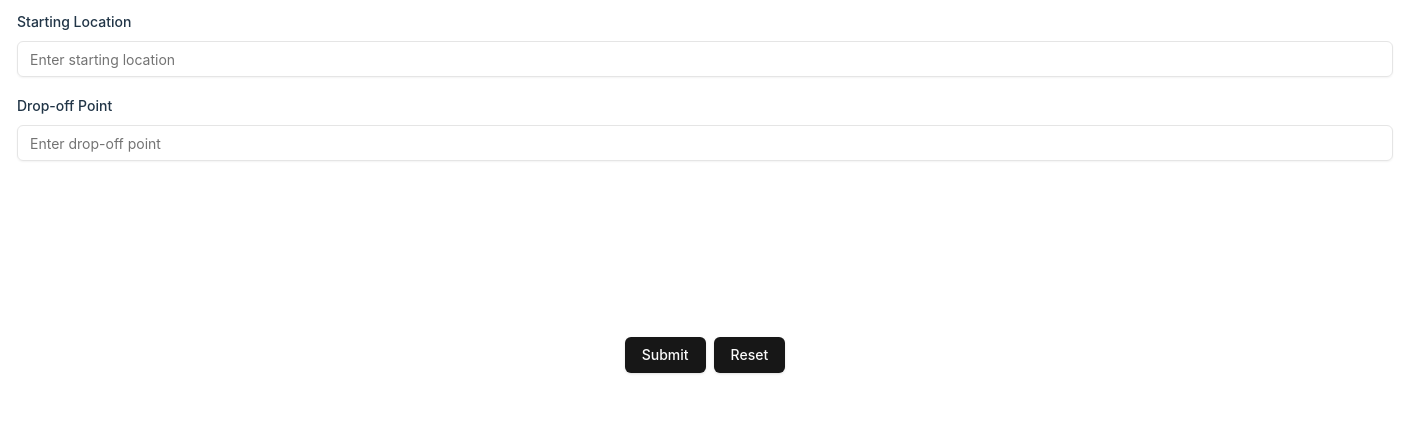
Test: InputForm › shows validation errors for empty fields
Click the button "Submit": (665, 355) [625,337,706,373]
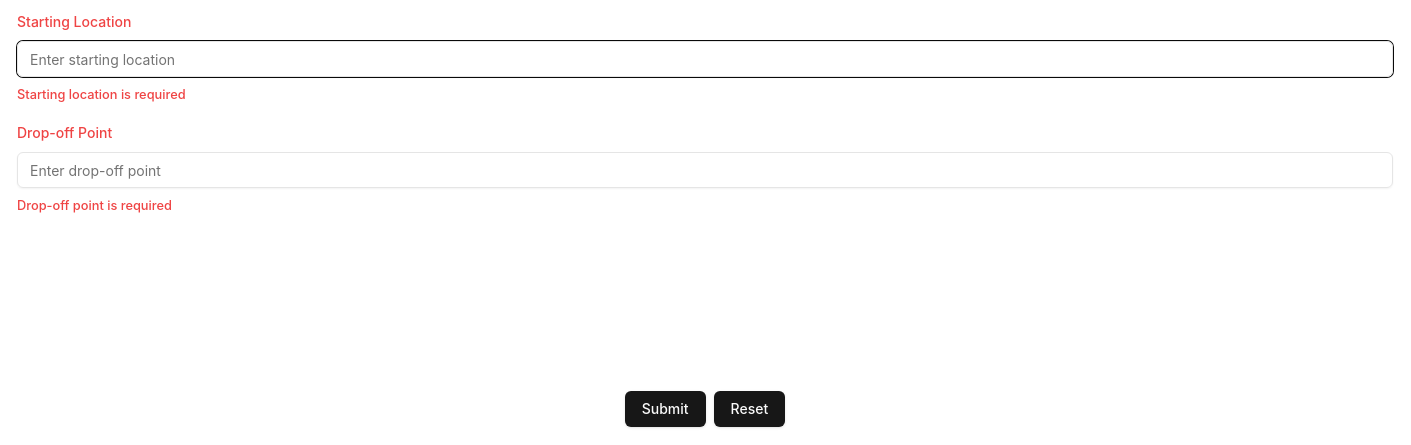
Expected: the text "Starting location is required" is shown, [17,87,186,102]
Expected: the text "Drop-off point is required" is shown, [17,198,172,213]
